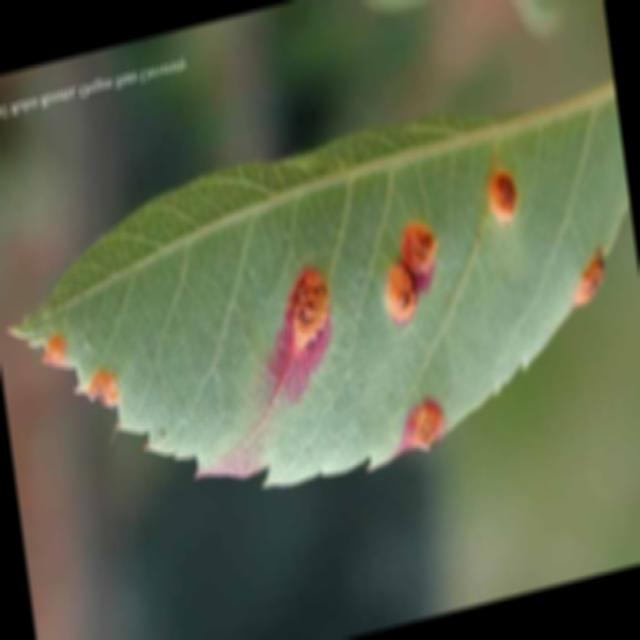Gymnosporangium_Rusts: (17, 192, 640, 454)
